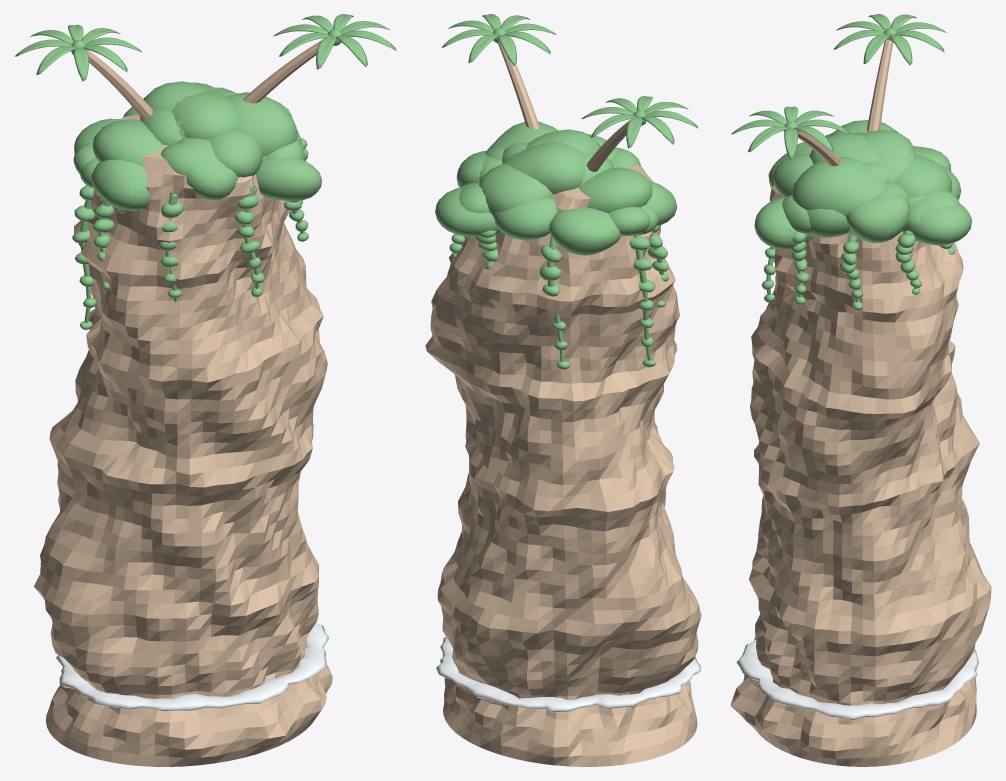
Rendered from SharkBaitSeaStack.glb.
The picture shows the model from 3 angles, left to right: view 1: azimuth 30°, elevation 25°; view 2: azimuth 150°, elevation 25°; view 3: azimuth 270°, elevation 25°; orthographic projection. The views are drawn at different scales.
Parts seen in each view (by area): view 1: Rock, Jungle, Foam; view 2: Rock, Jungle, Foam; view 3: Rock, Jungle, Foam.
Part boxes in pixels (x1,y1,x2,y2): Rock: [34, 40, 332, 766]; Jungle: [14, 14, 396, 329]; Foam: [56, 623, 328, 711]; Rock: [425, 40, 701, 766]; Jungle: [435, 14, 698, 369]; Foam: [436, 637, 701, 712]; Rock: [730, 39, 991, 766]; Jungle: [731, 14, 971, 310]; Foam: [736, 635, 978, 720].
Bounding box in the file's own units: 22.94 × 48 × 17.71.
